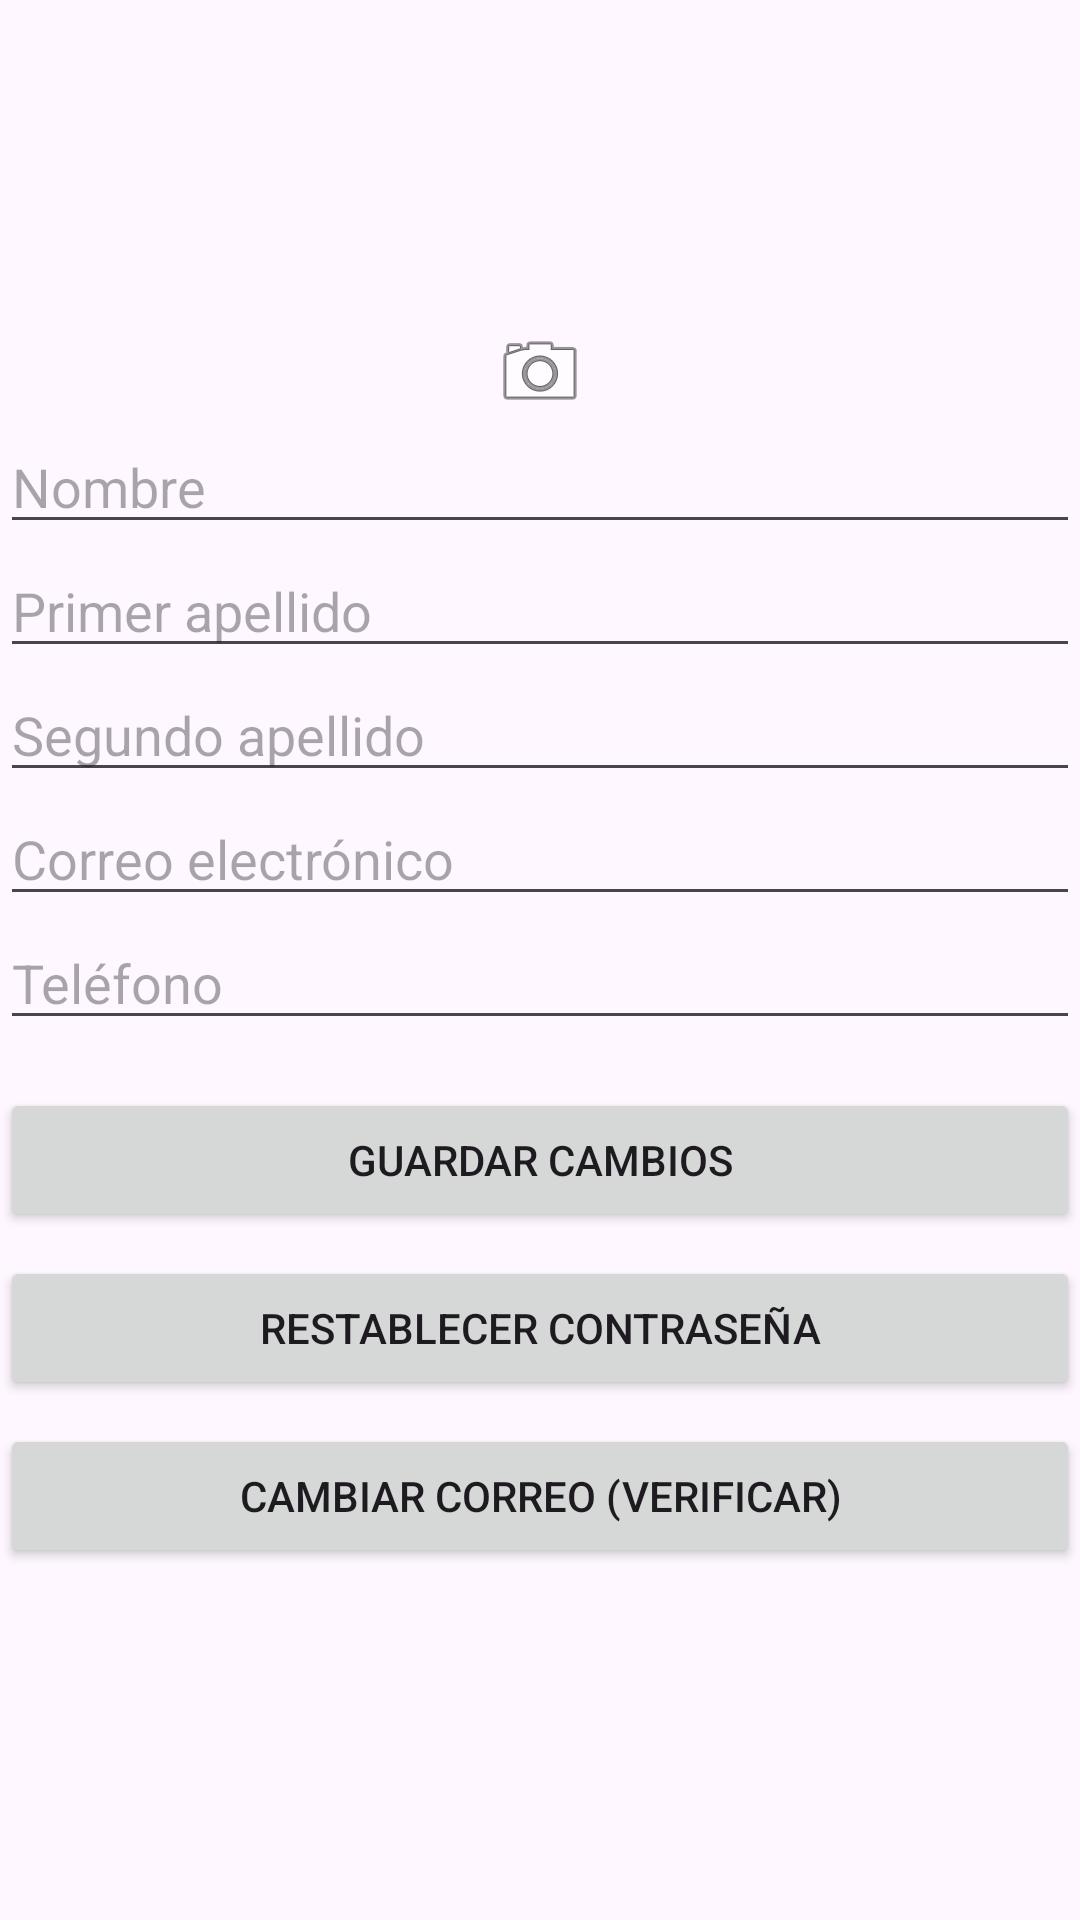

Screen size 1080 × 1920. Icon name, then its box in pixels as (x1, y1, x2, y2):
Cambiar foto: (503, 341, 577, 400)
